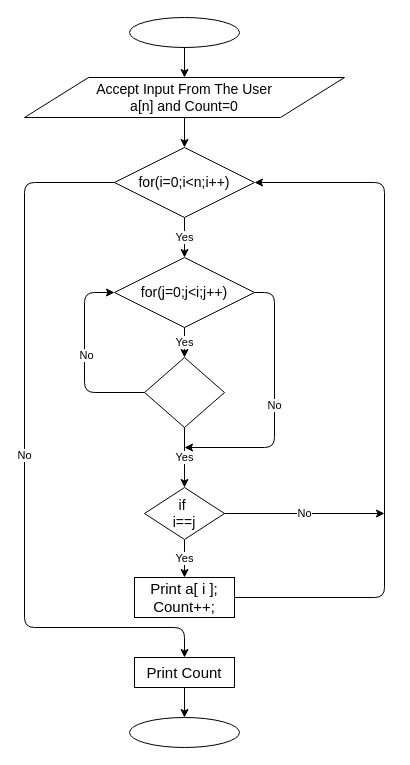
Image size: 410x765. Some labels were removed from this diagram. Here are the shapes that lost their labels. From the top down, the box of each, then its label:
(128, 16, 240, 48): START
(144, 356, 224, 428): if a[i]==a[j]
(128, 716, 240, 748): STOP
